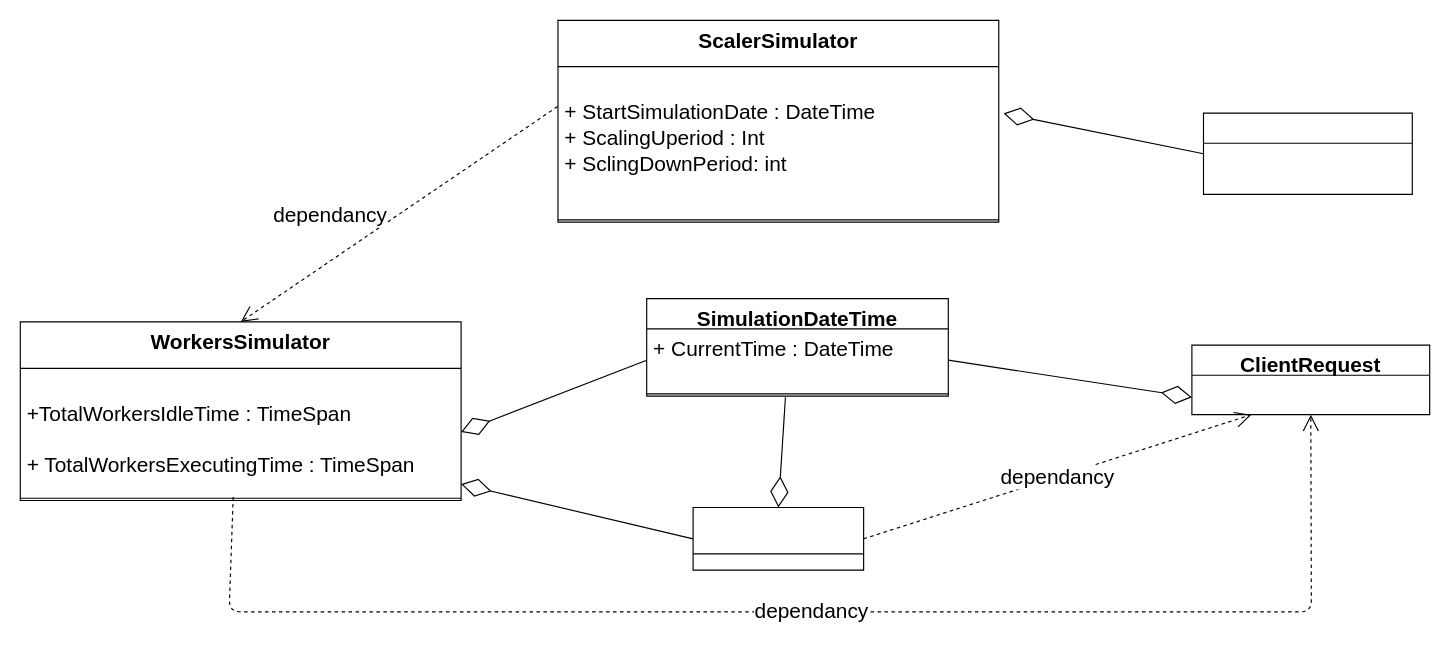
Some shapes in this 1450 by 648 pixel diagram are drawn without their labels. The centre of each missing label's shape, as x and y in pixels:
Configuration: the point at 1307,153
Worker: the point at 778,538
